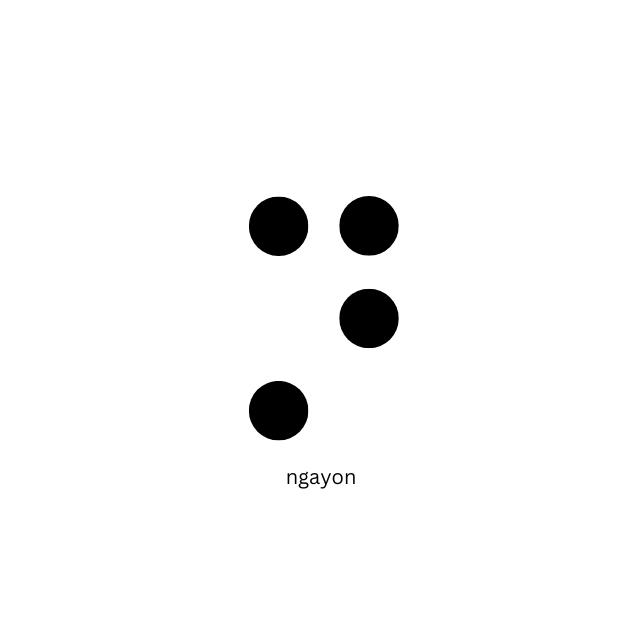one_cell_alphabet_ngayon: (248, 194, 401, 442)
